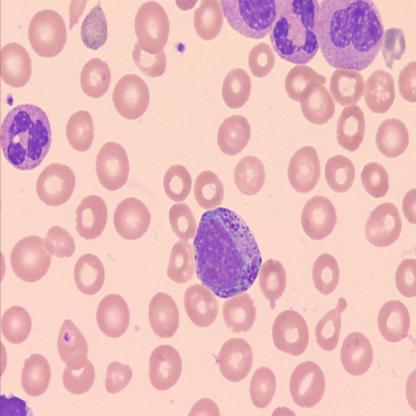Myelocyte: (193, 205, 264, 298)
